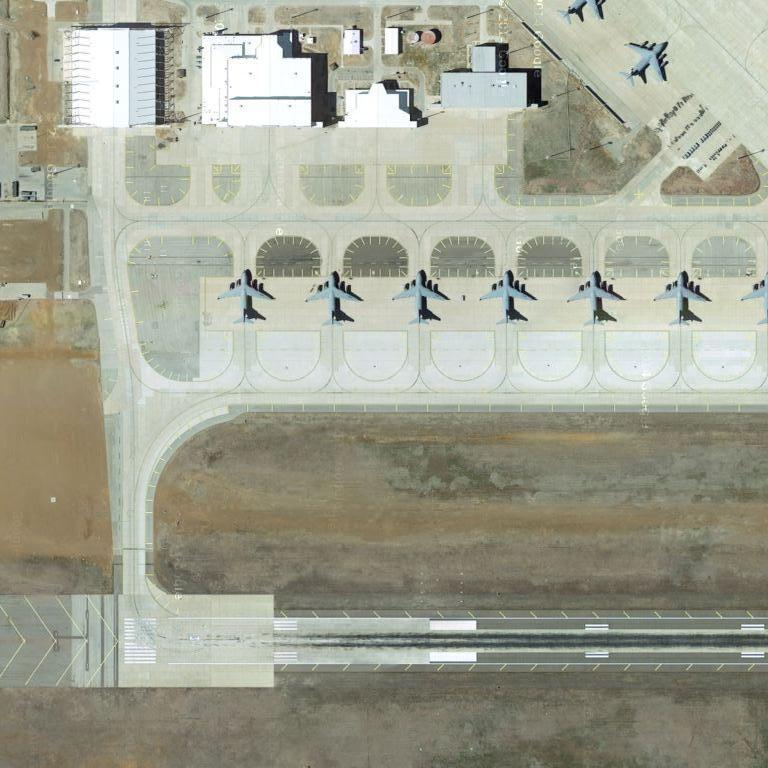C-17: (477, 265, 540, 330), (213, 264, 274, 329), (305, 268, 364, 333), (651, 269, 708, 334), (394, 265, 449, 332), (567, 268, 624, 331), (620, 33, 671, 93)
